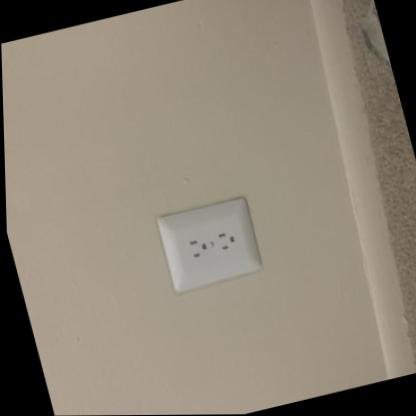OUTLET: (154, 196, 264, 290)
